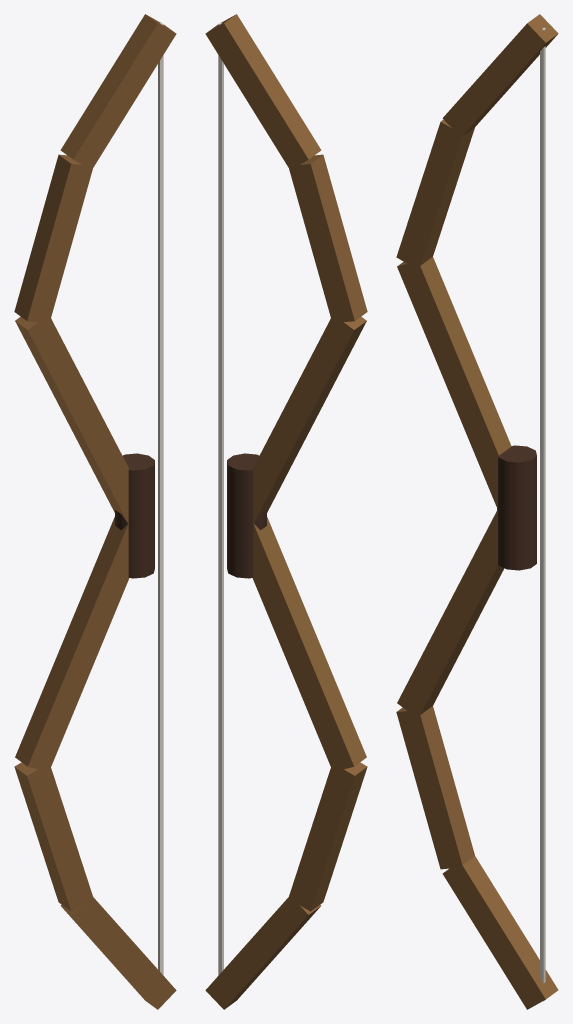
The model's file is mongol-bow.glb.
3 renders of one model, left to right at view 1: azimuth 30°, elevation 25°; view 2: azimuth 150°, elevation 25°; view 3: azimuth 330°, elevation 25°, orthographic.
Visible parts, largest first — view 1: Limb (×6), String, Grip; view 2: Limb (×6), String, Grip; view 3: Limb (×6), String, Grip.
Boxes of the visible parts, bbox=[...] form: Limb (×6): bbox=[14, 14, 176, 1009]; String: bbox=[158, 22, 163, 975]; Grip: bbox=[115, 453, 154, 578]; Limb (×6): bbox=[205, 14, 367, 1009]; String: bbox=[218, 22, 223, 975]; Grip: bbox=[227, 453, 266, 578]; Limb (×6): bbox=[396, 14, 558, 1009]; String: bbox=[540, 27, 545, 1001]; Grip: bbox=[497, 445, 536, 570].
Size of the model in its own units: 0.203 by 1.28 by 0.048.
